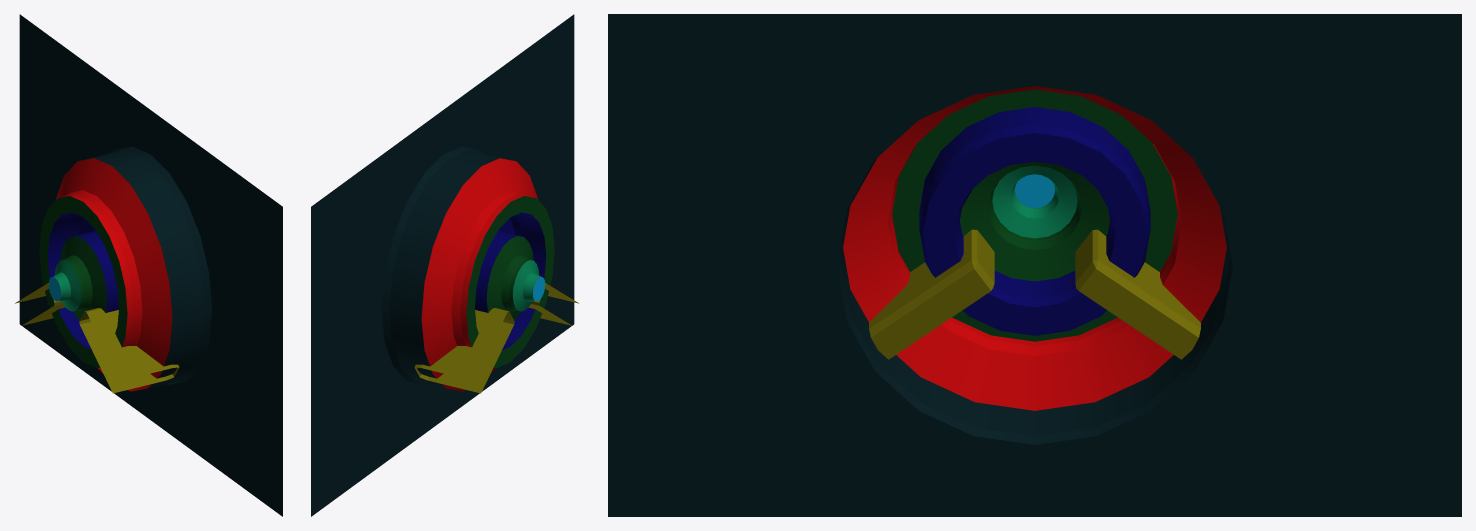
The model's file is OBJ_Fond.fbx.
The picture shows the model from 3 angles, left to right: view 1: azimuth 30°, elevation 25°; view 2: azimuth 150°, elevation 25°; view 3: azimuth 270°, elevation 25°; orthographic projection. The views are drawn at different scales.
Parts seen in each view (by area): view 1: Cylinder004; view 2: Cylinder004; view 3: Cylinder004.
Part boxes in pixels (x1,y1,x2,y2): Cylinder004: [15, 14, 282, 516]; Cylinder004: [311, 14, 578, 516]; Cylinder004: [608, 14, 1461, 516].
Bounding box in the file's own units: 42.21 × 130 × 200.
